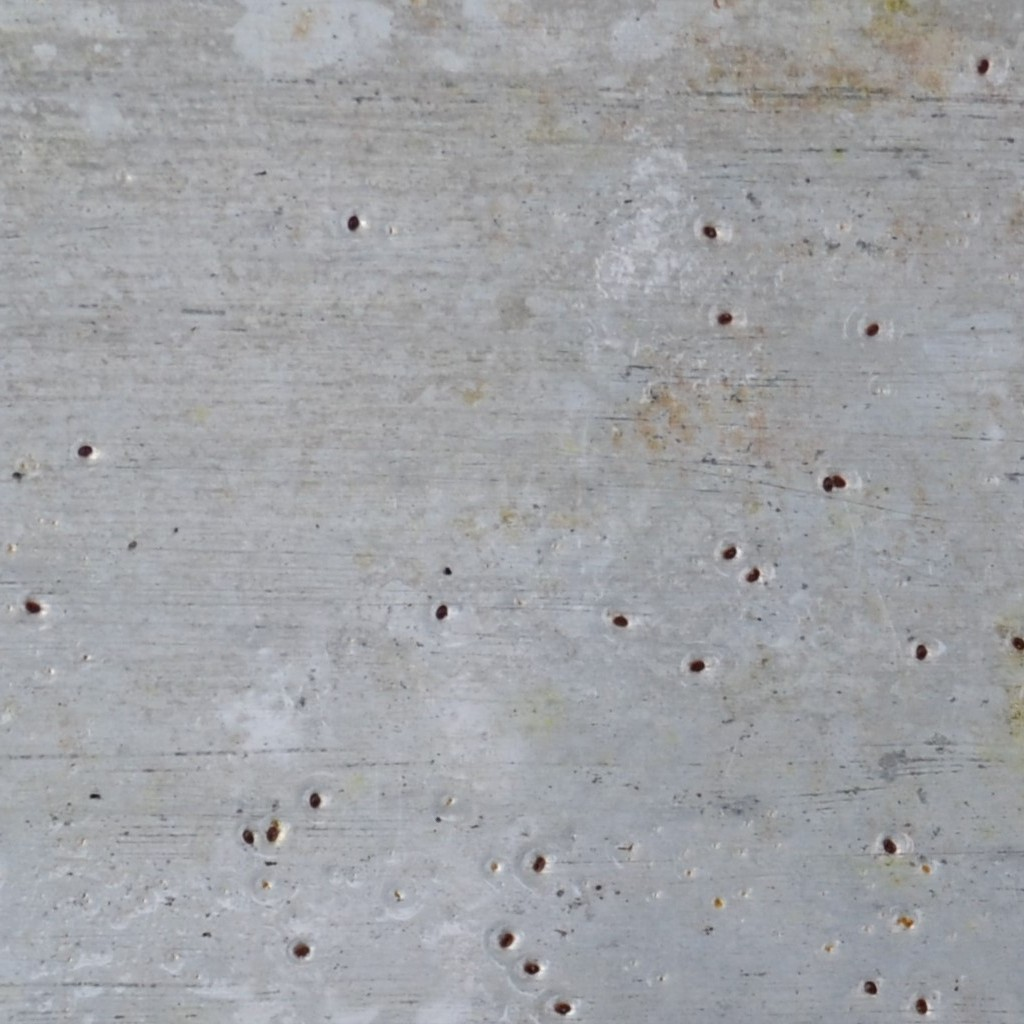varroa: (878, 834, 901, 858), (289, 938, 311, 961), (263, 822, 282, 847), (551, 997, 572, 1018), (861, 977, 881, 999), (701, 221, 721, 242), (528, 854, 548, 875), (830, 469, 849, 491), (742, 565, 762, 585), (521, 958, 543, 976), (973, 57, 993, 76), (25, 598, 44, 618), (343, 213, 361, 234), (914, 641, 931, 663), (497, 930, 515, 950), (913, 995, 930, 1016), (862, 321, 882, 338), (819, 473, 836, 493), (713, 310, 733, 327), (610, 610, 630, 627), (687, 657, 706, 674), (433, 602, 450, 621), (720, 544, 737, 562), (306, 789, 322, 808), (74, 444, 94, 459), (241, 827, 255, 847), (1011, 634, 1023, 651)
